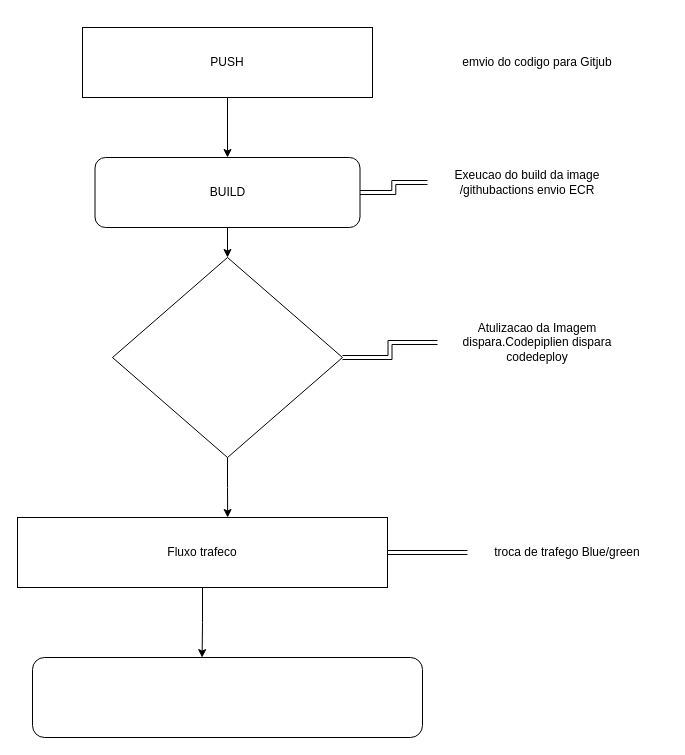
The diagram is 685 pixels wide and 755 high, and some of its shapes have lost their labels. Here are the shapes that lost their labels. From the top down, the box of each, then its label:
(112, 256, 342, 458): Disparo
(32, 656, 422, 738): Fim do deploy
